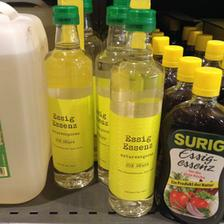Essig: (106, 9, 154, 217), (41, 4, 94, 190), (163, 66, 221, 222)
